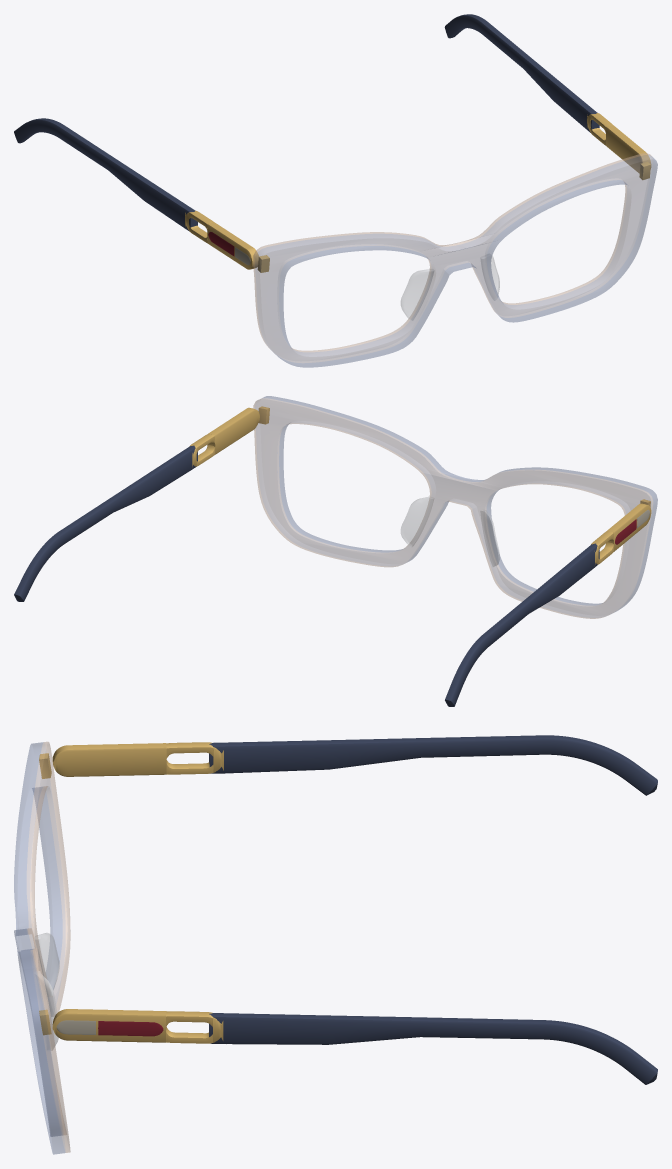
File: bahamas-blue-exuma-3d.glb
The picture shows the model from 3 angles, top to bottom: view 1: azimuth 30°, elevation 25°; view 2: azimuth 150°, elevation 25°; view 3: azimuth 270°, elevation 25°; orthographic projection. The views are drawn at different scales.
Visible parts, largest first — view 1: frente, varilla_der, varilla_izq, plaqueta_der, plaqueta_izq; view 2: frente, varilla_izq, varilla_der, plaqueta_izq, plaqueta_der; view 3: varilla_izq, varilla_der, frente, plaqueta_der, plaqueta_izq.
Part boxes in pixels (left/top/right/bottom): frente: left=253, top=153, right=657, bottom=367; varilla_der: left=14, top=118, right=258, bottom=269; varilla_izq: left=444, top=14, right=651, bottom=173; plaqueta_der: left=400, top=269, right=434, bottom=320; plaqueta_izq: left=480, top=254, right=499, bottom=300; frente: left=253, top=396, right=657, bottom=618; varilla_izq: left=14, top=407, right=259, bottom=601; varilla_der: left=445, top=503, right=651, bottom=706; plaqueta_izq: left=400, top=496, right=434, bottom=547; plaqueta_der: left=480, top=510, right=499, bottom=566; varilla_izq: left=52, top=1009, right=657, bottom=1084; varilla_der: left=52, top=735, right=657, bottom=795; frente: left=14, top=741, right=70, bottom=1154; plaqueta_der: left=34, top=933, right=59, bottom=995; plaqueta_izq: left=36, top=971, right=58, bottom=1050.
Bounding box in the file's own units: 0.1589 × 0.0479 × 0.1469.
